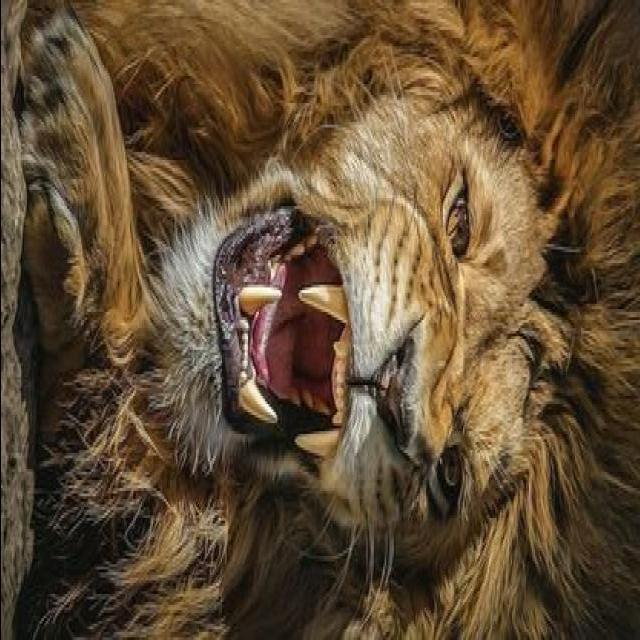lions: (0, 14, 640, 608)
